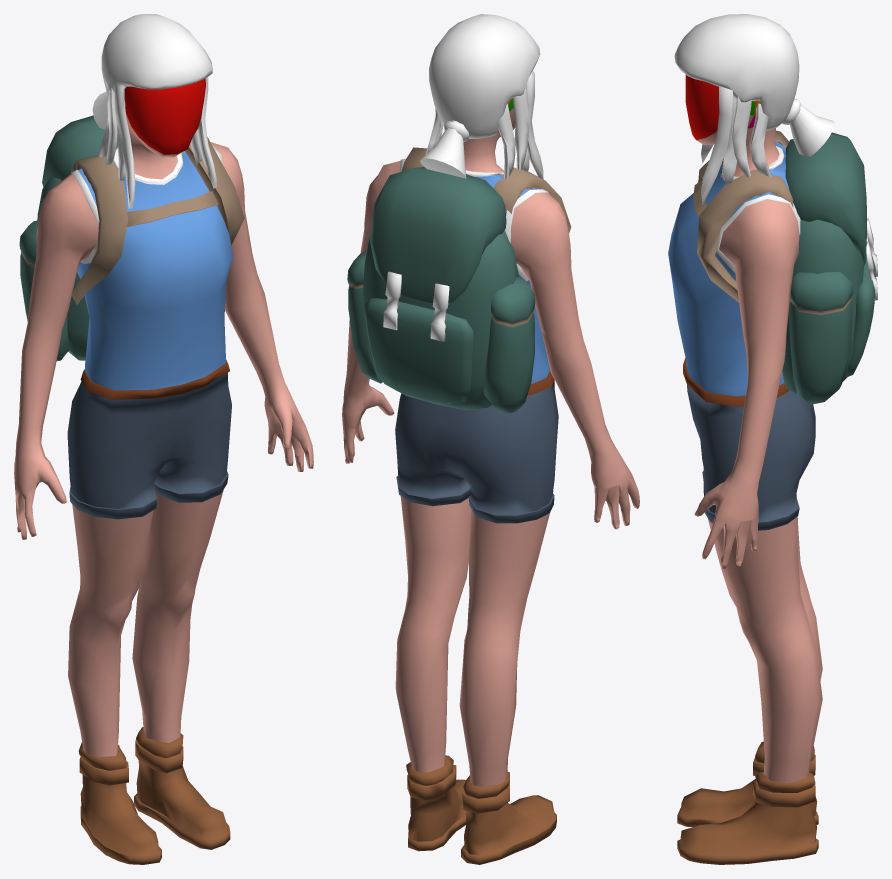
The model's file is uploads_files_4447853_hiker+woman.fbx.
The picture shows the model from 3 angles, left to right: view 1: azimuth 30°, elevation 25°; view 2: azimuth 150°, elevation 25°; view 3: azimuth 270°, elevation 25°; orthographic projection.
Visible parts, largest first — view 1: hiker girl; view 2: hiker girl; view 3: hiker girl.
Part boxes in pixels (<box>): hiker girl: <box>14,14,313,864</box>; hiker girl: <box>342,14,639,864</box>; hiker girl: <box>668,14,877,864</box>.
Bounding box in the file's own units: 63.18 × 171 × 39.87.
